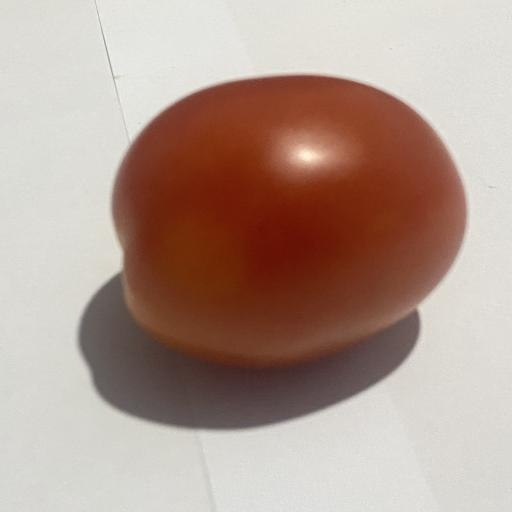ripe: (113, 75, 466, 366)
